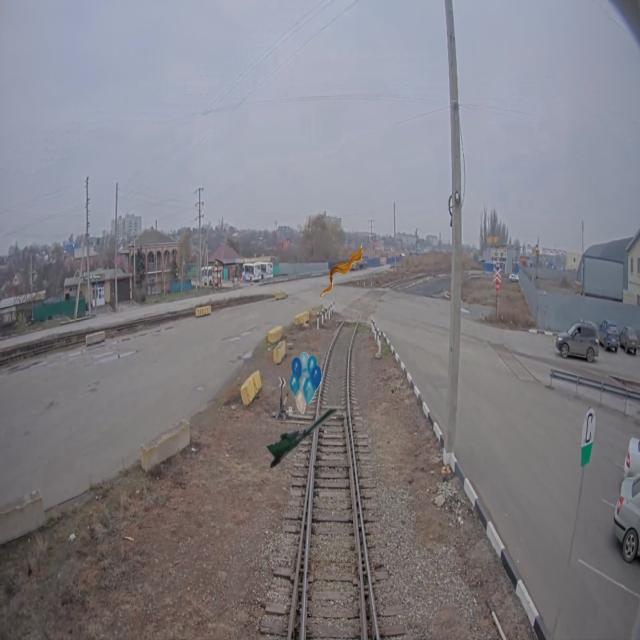balloon: (289, 351, 322, 415)
floating object: (265, 406, 342, 470), (318, 240, 362, 304)
